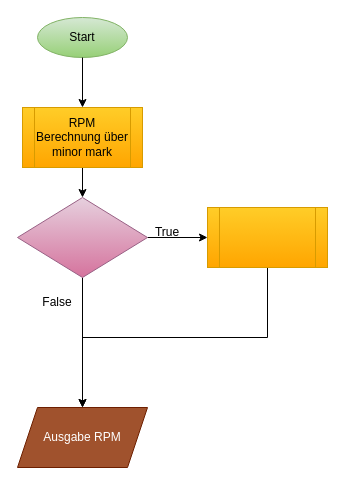
The diagram is 345 pixels wide and 485 high, and some of its shapes have lost their labels. The centre of each missing label's shape, as x and y in pixels:
"RPM >= 3000" goes at (x=82, y=237).
"RPM Berechnung über major mark" goes at (x=267, y=237).
